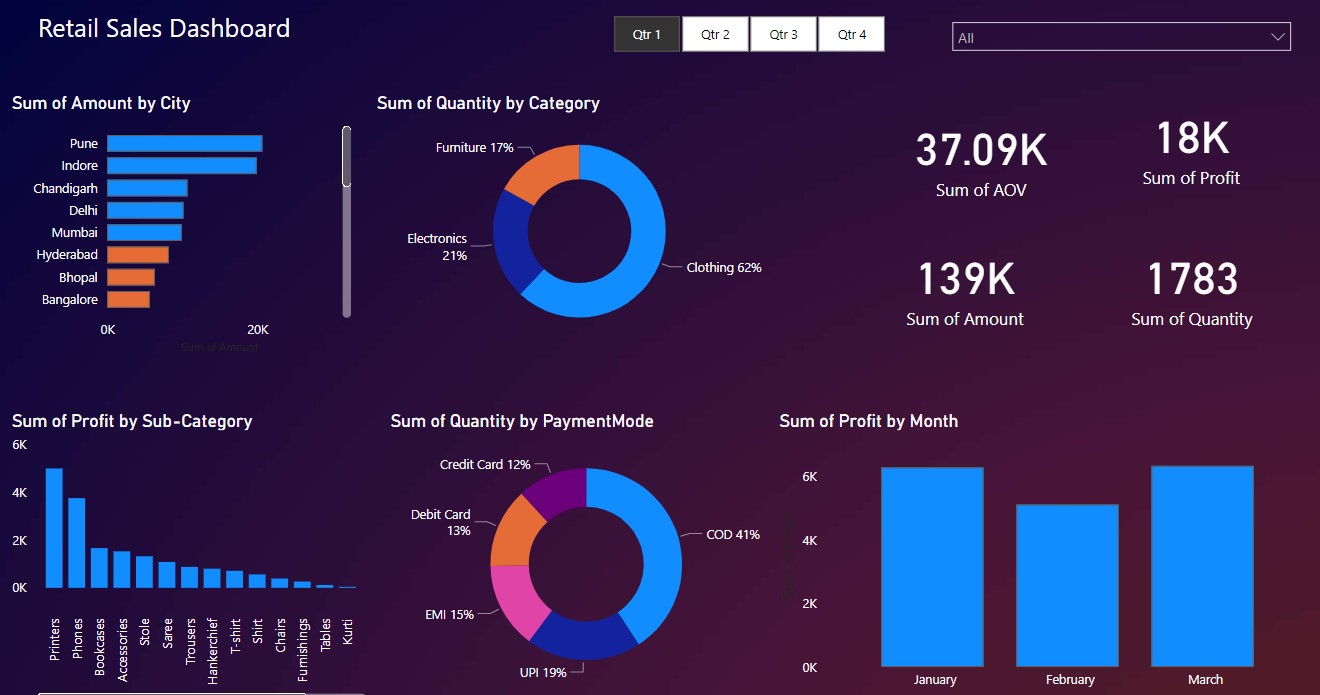

Layout of this report page (visuals, bound fields, positions):
{"tool":"powerbi","page":{"name":"Page 1","canvas":[1280,720],"ordinal":0},"visuals":[{"type":"clusteredColumnChart","fields":{"Y":["Sum(Details.Profit)"],"Category":["Orders.Order Date.Variation.Date Hierarchy.Month"]},"box":[747.4,409.4,518.9,274.9],"z":0},{"type":"textbox","box":[41.7,23.8,367.7,51.2],"z":1000},{"type":"columnChart","fields":{"Category":["Details.Sub-Category"],"Y":["Sum(Details.Profit)"]},"box":[16.7,409.4,347.5,283.2],"z":2000},{"type":"donutChart","fields":{"Y":["Sum(Details.Quantity)"],"Category":["Details.Category"]},"box":[364.2,107.1,396.3,245.2],"z":3000},{"type":"donutChart","fields":{"Y":["Sum(Details.Quantity)"],"Category":["Details.PaymentMode"]},"box":[377.3,409.4,383.2,274.9],"z":4000},{"type":"card","fields":{"Values":["Sum(Details.Amount)"]},"box":[852.1,241.6,154.7,97.6],"z":5000},{"type":"card","fields":{"Values":["Sum(Details.Profit)"]},"box":[1067.5,107.1,154.7,97.6],"z":6000},{"type":"card","fields":{"Values":["Sum(Details.Quantity)"]},"box":[1068.7,242.8,153.5,96.4],"z":7000},{"type":"card","fields":{"Values":["Sum(Details.AOV)"]},"box":[866.4,119,157.1,97.6],"z":8000},{"type":"barChart","fields":{"Category":["Orders.City"],"Y":["Sum(Details.Amount)"]},"box":[16.7,107.1,333.2,253.5],"z":9000},{"type":"slicer","fields":{"Values":["Orders.Order Date.Variation.Date Hierarchy.Quarter"]},"box":[568.9,27.4,308.2,47.6],"z":10000},{"type":"slicer","fields":{"Values":["Orders.City"]},"box":[906.8,29.8,342.7,89.3],"z":11000}]}

Visuals, with their boxes on the page's 1280x720 design canvas (x1, y1, x2, y2). These are canvas units, not pixel positions in the 1320x695 screenshot, which may show the page scaled, cropped or inside an application window:
clusteredColumnChart - Sum(Details.Profit) x Orders.Order Date.Variation.Date Hierarchy.Month: box=[747, 409, 1266, 684]
textbox: box=[42, 24, 409, 75]
columnChart - Details.Sub-Category x Sum(Details.Profit): box=[17, 409, 364, 693]
donutChart - Sum(Details.Quantity) x Details.Category: box=[364, 107, 760, 352]
donutChart - Sum(Details.Quantity) x Details.PaymentMode: box=[377, 409, 760, 684]
card - Sum(Details.Amount): box=[852, 242, 1007, 339]
card - Sum(Details.Profit): box=[1068, 107, 1222, 205]
card - Sum(Details.Quantity): box=[1069, 243, 1222, 339]
card - Sum(Details.AOV): box=[866, 119, 1024, 217]
barChart - Orders.City x Sum(Details.Amount): box=[17, 107, 350, 361]
slicer - Orders.Order Date.Variation.Date Hierarchy.Quarter: box=[569, 27, 877, 75]
slicer - Orders.City: box=[907, 30, 1250, 119]
